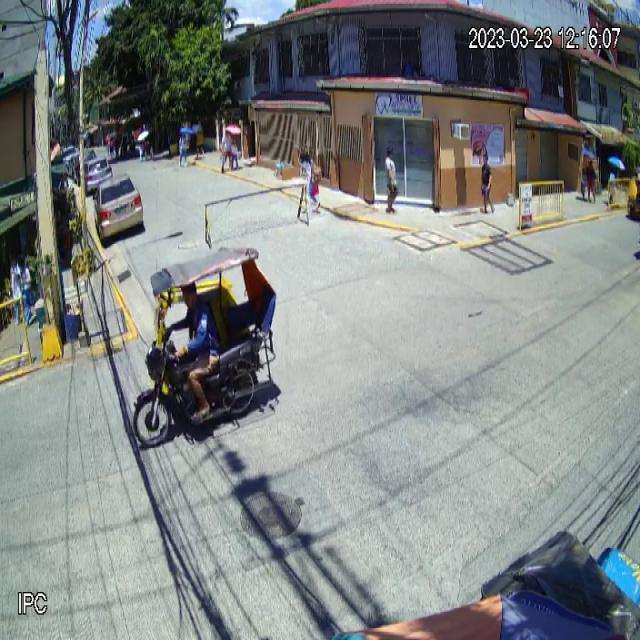Car: (94, 172, 144, 239)
Tricycle: (134, 248, 276, 454)
